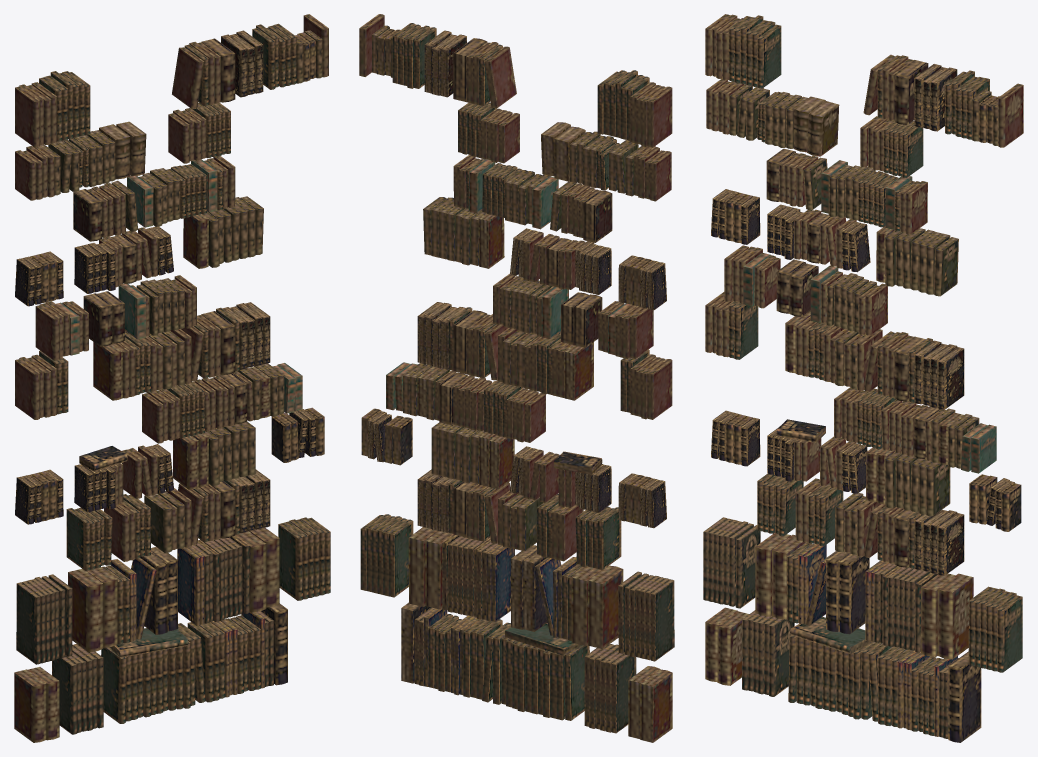
Rendered from Librarybook_bake_06.fbx.
3 renders of one model, left to right at view 1: azimuth 30°, elevation 25°; view 2: azimuth 150°, elevation 25°; view 3: azimuth 330°, elevation 25°, orthographic.
Parts seen in each view (by area): view 1: LODGroup_1_MainMesh_1_SubMesh_1; view 2: LODGroup_1_MainMesh_1_SubMesh_1; view 3: LODGroup_1_MainMesh_1_SubMesh_1.
Part boxes in pixels (bbox=[...]): LODGroup_1_MainMesh_1_SubMesh_1: bbox=[14, 14, 330, 742]; LODGroup_1_MainMesh_1_SubMesh_1: bbox=[359, 14, 674, 742]; LODGroup_1_MainMesh_1_SubMesh_1: bbox=[703, 14, 1023, 742].
Bounding box in the file's own units: 370 × 775 × 57.78.
